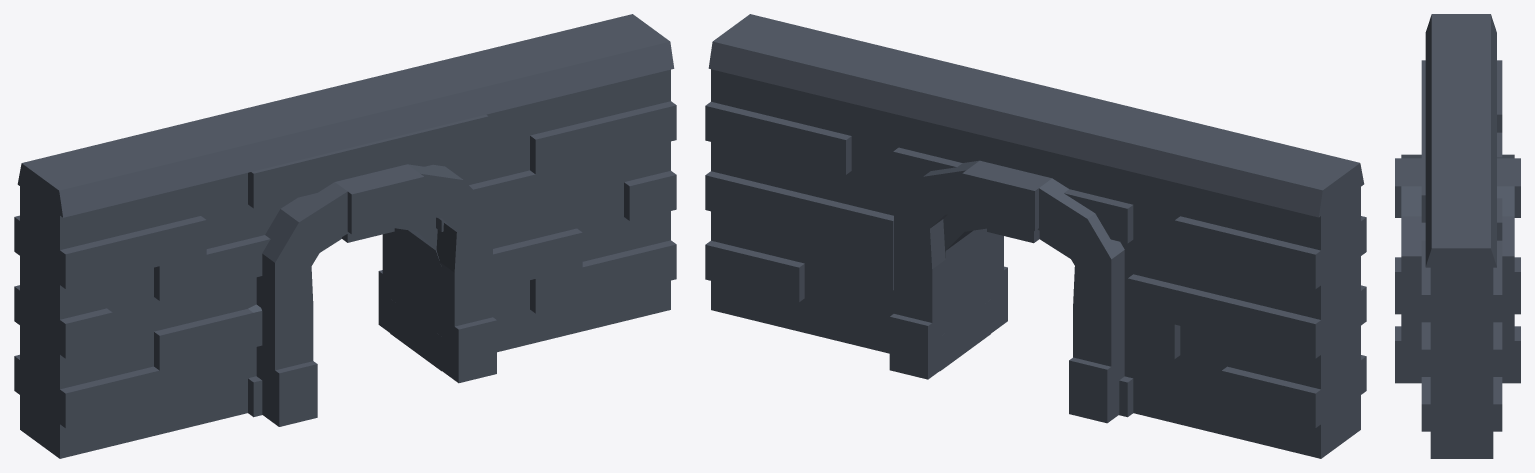
File: pared.fbx
3 renders of one model, left to right at view 1: azimuth 30°, elevation 25°; view 2: azimuth 150°, elevation 25°; view 3: azimuth 270°, elevation 25°, orthographic. The views are drawn at different scales.
Visible parts, largest first — view 1: Cube, Cube.001; view 2: Cube, Cube.001; view 3: Cube, Cube.001.
Boxes of the visible parts, x1,y1,x2,y2 form: Cube: (14, 14, 676, 458); Cube.001: (256, 164, 496, 426); Cube: (705, 14, 1366, 458); Cube.001: (889, 160, 1124, 423); Cube: (1421, 14, 1502, 458); Cube.001: (1395, 154, 1520, 383).
Bounding box in the file's own units: 1766 × 740 × 401.
2 materials, 2 textured.
